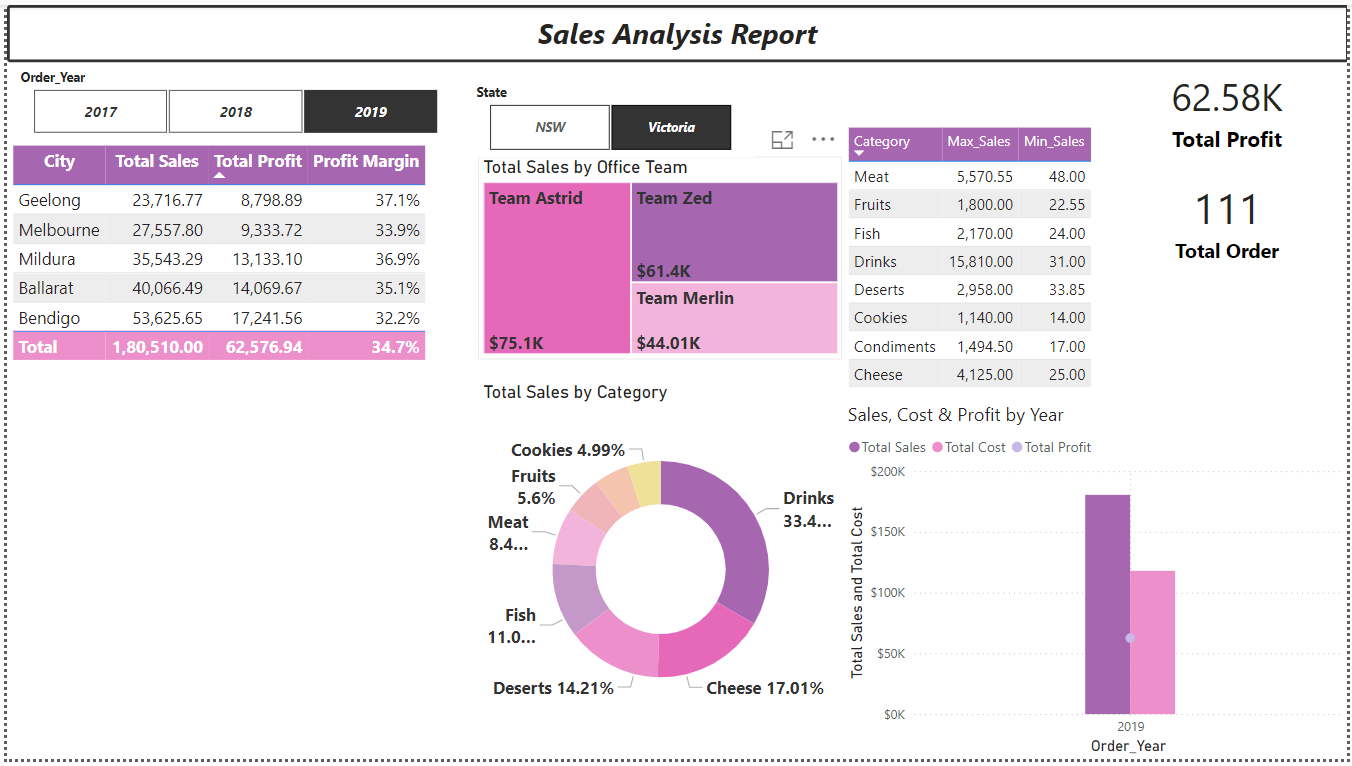

What the dashboard file says about the page in this screenshot:
{"tool":"powerbi","page":{"name":"Page 1","canvas":[1280,720],"ordinal":0},"visuals":[{"type":"textbox","box":[0,0,1281.3,54.8],"z":0},{"type":"tableEx","fields":{"Values":["Orders.CustomerCity","Sum(Orders.Sales)","Sum(Orders.Profit)","Orders.Profit Margin"]},"box":[0,128.6,449.2,569.8],"z":1000},{"type":"slicer","fields":{"Values":["Orders.Order_Year"]},"box":[0,55.6,434.9,73],"z":2000},{"type":"treemap","fields":{"Group":["Employees.Office Team"],"Values":["Orders.Total Sales"]},"box":[450,145,348.3,193.3],"z":3000},{"type":"donutChart","fields":{"Category":["Orders.Category"],"Y":["Orders.Total Sales"]},"box":[450,360,348.3,338.3],"z":4000},{"type":"tableEx","fields":{"Values":["Orders.Category","Orders.Max_Sales","Orders.Min_Sales"]},"box":[798.3,111.7,250,266.7],"z":5000},{"type":"lineClusteredColumnComboChart","title":"Sales, Cost & Profit by Year","fields":{"Category":["Orders.Order_Year"],"Y":["Orders.Total Sales","Orders.Total Cost"],"Y2":["Orders.Total Profit"]},"box":[798.3,378.3,481.7,341.7],"z":6000},{"type":"slicer","fields":{"Values":["Orders.State"]},"box":[435,70,280,75],"z":7000},{"type":"card","fields":{"Values":["Orders.Total Profit"]},"box":[1048.2,55.7,232.2,89.1],"z":8000},{"type":"card","fields":{"Values":["Orders.Total Order"]},"box":[1048.2,144.7,232.2,120.9],"z":9000}]}

Visuals, with their boxes in screenshot pixels (x1, y1, x2, y2), scaled from the page's 1280x720 canvas onto the 1352x766 screenshot:
textbox: x1=0, y1=0, x2=1351, y2=58
tableEx - Orders.CustomerCity x Sum(Orders.Sales): x1=0, y1=137, x2=474, y2=743
slicer - Orders.Order_Year: x1=0, y1=59, x2=459, y2=137
treemap - Employees.Office Team x Orders.Total Sales: x1=475, y1=154, x2=843, y2=360
donutChart - Orders.Category x Orders.Total Sales: x1=475, y1=383, x2=843, y2=743
tableEx - Orders.Category x Orders.Max_Sales: x1=843, y1=119, x2=1107, y2=403
"Sales, Cost & Profit by Year" lineClusteredColumnComboChart: x1=843, y1=402, x2=1351, y2=765
slicer - Orders.State: x1=459, y1=74, x2=755, y2=154
card - Orders.Total Profit: x1=1107, y1=59, x2=1351, y2=154
card - Orders.Total Order: x1=1107, y1=154, x2=1351, y2=283
